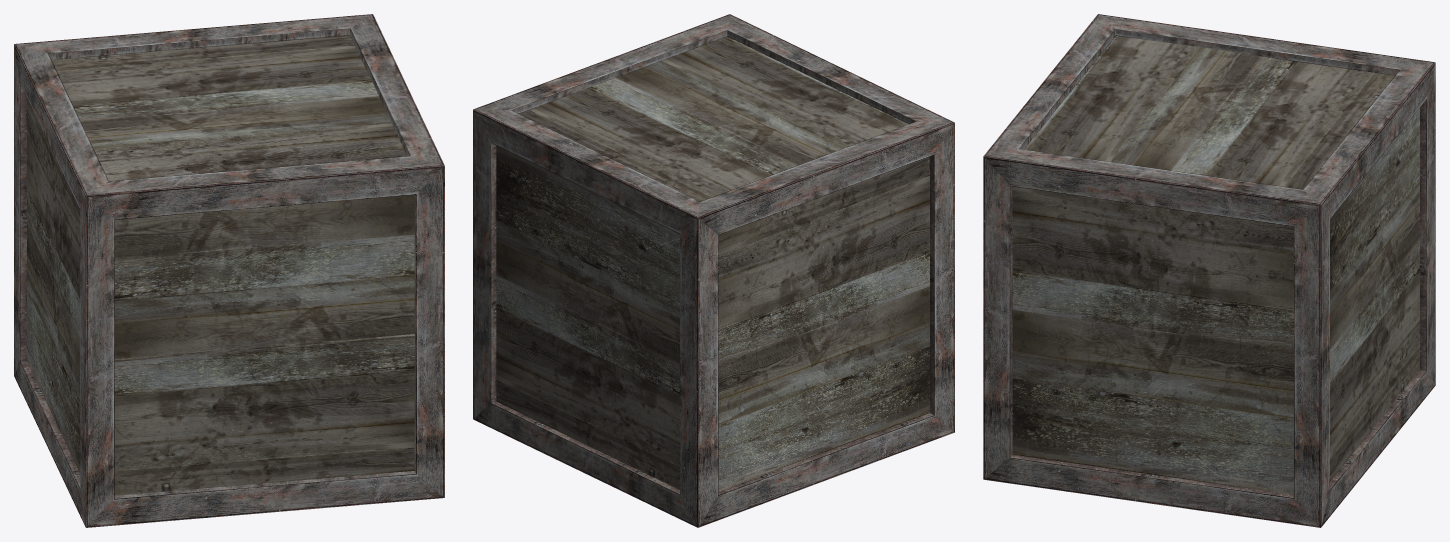
Rendered from SquareBoxfbx.fbx.
3 renders of one model, left to right at view 1: azimuth 30°, elevation 25°; view 2: azimuth 150°, elevation 25°; view 3: azimuth 270°, elevation 25°, orthographic. The views are drawn at different scales.
Visible parts, largest first — view 1: mesh_0.564, mesh_1.455; view 2: mesh_0.564, mesh_1.455; view 3: mesh_0.564, mesh_1.455.
Part boxes in pixels (x1,y1,x2,y2): mesh_0.564: [27, 35, 415, 495]; mesh_1.455: [14, 14, 444, 527]; mesh_0.564: [496, 36, 929, 491]; mesh_1.455: [473, 14, 954, 527]; mesh_0.564: [1012, 36, 1419, 494]; mesh_1.455: [983, 14, 1435, 527].
Bounding box in the file's own units: 1.27 × 1 × 1.27.
